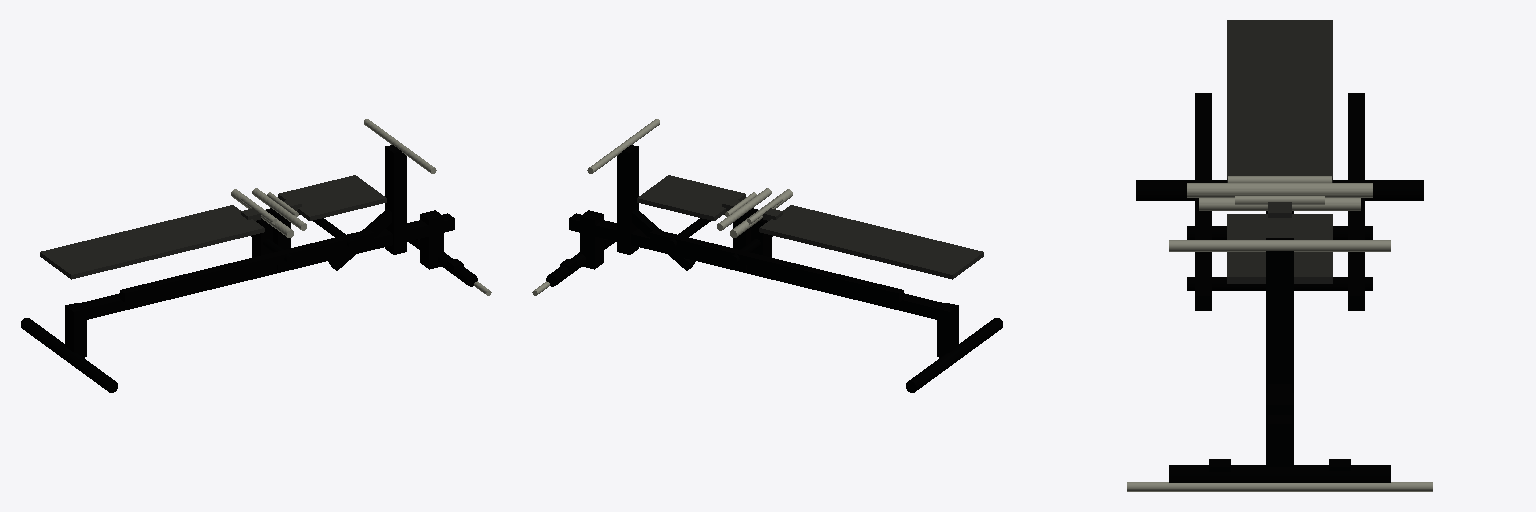
The robot description file, URDF, robot "adjustable_decline_bench":
<robot name="adjustable_decline_bench">
  <link name="frame">
    <visual name="center_spine">
      <origin xyz="-0.05 0 0.245" rpy="0 0 0" />
      <geometry>
        <box size="1.78 0.06 0.05" />
        </geometry>
      <material name="satin_black_steel">
        <color rgba="0.02 0.022 0.022 1" />
        </material>
      </visual>
    <visual name="side_rail_0">
      <origin xyz="-0.22 0.185 0.37" rpy="0 0 0" />
      <geometry>
        <box size="1.16 0.04 0.04" />
        </geometry>
      <material name="satin_black_steel">
        <color rgba="0.02 0.022 0.022 1" />
        </material>
      </visual>
    <visual name="side_rail_1">
      <origin xyz="-0.22 -0.185 0.37" rpy="0 0 0" />
      <geometry>
        <box size="1.16 0.04 0.04" />
        </geometry>
      <material name="satin_black_steel">
        <color rgba="0.02 0.022 0.022 1" />
        </material>
      </visual>
    <visual name="rear_floor_bar">
      <origin xyz="-0.94 0 0.065" rpy="1.5708 0 0" />
      <geometry>
        <cylinder radius="0.026" length="0.7" />
        </geometry>
      <material name="satin_black_steel">
        <color rgba="0.02 0.022 0.022 1" />
        </material>
      </visual>
    <visual name="rear_support">
      <origin xyz="-0.91 0 0.165" rpy="0 0 0" />
      <geometry>
        <box size="0.06 0.07 0.215" />
        </geometry>
      <material name="satin_black_steel">
        <color rgba="0.02 0.022 0.022 1" />
        </material>
      </visual>
    <visual name="front_crossmember">
      <origin xyz="0.78 0 0.105" rpy="1.5708 0 0" />
      <geometry>
        <cylinder radius="0.026" length="0.54" />
        </geometry>
      <material name="satin_black_steel">
        <color rgba="0.02 0.022 0.022 1" />
        </material>
      </visual>
    <visual name="front_support">
      <origin xyz="0.75 0 0.185" rpy="0 0 0" />
      <geometry>
        <box size="0.07 0.07 0.22" />
        </geometry>
      <material name="satin_black_steel">
        <color rgba="0.02 0.022 0.022 1" />
        </material>
      </visual>
    <visual name="wheel_axle">
      <origin xyz="0.8 0 0.085" rpy="1.5708 0 0" />
      <geometry>
        <cylinder radius="0.012" length="0.74" />
        </geometry>
      <material name="brushed_pin_metal">
        <color rgba="0.55 0.55 0.5 1" />
        </material>
      </visual>
    <visual name="back_hinge_stand">
      <origin xyz="-0.04 0 0.352" rpy="0 0 0" />
      <geometry>
        <box size="0.06 0.07 0.23" />
        </geometry>
      <material name="satin_black_steel">
        <color rgba="0.02 0.022 0.022 1" />
        </material>
      </visual>
    <visual name="back_top_crossbar">
      <origin xyz="-0.04 0 0.37" rpy="1.5708 0 0" />
      <geometry>
        <cylinder radius="0.018" length="0.45" />
        </geometry>
      <material name="satin_black_steel">
        <color rgba="0.02 0.022 0.022 1" />
        </material>
      </visual>
    <visual name="back_hinge_pin">
      <origin xyz="-0.04 0 0.485" rpy="1.5708 0 0" />
      <geometry>
        <cylinder radius="0.018" length="0.45" />
        </geometry>
      <material name="brushed_pin_metal">
        <color rgba="0.55 0.55 0.5 1" />
        </material>
      </visual>
    <visual name="seat_hinge_stand">
      <origin xyz="0.04 0 0.352" rpy="0 0 0" />
      <geometry>
        <box size="0.06 0.07 0.23" />
        </geometry>
      <material name="satin_black_steel">
        <color rgba="0.02 0.022 0.022 1" />
        </material>
      </visual>
    <visual name="seat_top_crossbar">
      <origin xyz="0.25 0 0.37" rpy="1.5708 0 0" />
      <geometry>
        <cylinder radius="0.018" length="0.45" />
        </geometry>
      <material name="satin_black_steel">
        <color rgba="0.02 0.022 0.022 1" />
        </material>
      </visual>
    <visual name="seat_hinge_pin">
      <origin xyz="0.04 0 0.485" rpy="1.5708 0 0" />
      <geometry>
        <cylinder radius="0.016" length="0.39" />
        </geometry>
      <material name="brushed_pin_metal">
        <color rgba="0.55 0.55 0.5 1" />
        </material>
      </visual>
    <visual name="seat_pin_saddle">
      <origin xyz="0.04 0 0.467" rpy="0 0 0" />
      <geometry>
        <box size="0.052 0.058 0.018" />
        </geometry>
      <material name="satin_black_steel">
        <color rgba="0.02 0.022 0.022 1" />
        </material>
      </visual>
    <visual name="front_upright">
      <origin xyz="0.58 0 0.405" rpy="0 0 0" />
      <geometry>
        <box size="0.06 0.07 0.455" />
        </geometry>
      <material name="satin_black_steel">
        <color rgba="0.02 0.022 0.022 1" />
        </material>
      </visual>
    <visual name="roller_axle">
      <origin xyz="0.6 0 0.635" rpy="1.5708 0 0" />
      <geometry>
        <cylinder radius="0.014" length="0.54" />
        </geometry>
      <material name="brushed_pin_metal">
        <color rgba="0.55 0.55 0.5 1" />
        </material>
      </visual>
    <visual name="front_brace">
      <origin xyz="0.43 0 0.265" rpy="0 -0.55 0" />
      <geometry>
        <box size="0.34 0.04 0.04" />
        </geometry>
      <material name="satin_black_steel">
        <color rgba="0.02 0.022 0.022 1" />
        </material>
      </visual>
    <visual name="carry_handle">
      <geometry>
        <mesh filename="assets/meshes/front_carry_handle.obj" />
        </geometry>
      <material name="satin_black_steel">
        <color rgba="0.02 0.022 0.022 1" />
        </material>
      </visual>
    <visual name="handle_mount_0">
      <origin xyz="0.775 -0.145 0.118" rpy="0 0 0" />
      <geometry>
        <box size="0.045 0.055 0.038" />
        </geometry>
      <material name="satin_black_steel">
        <color rgba="0.02 0.022 0.022 1" />
        </material>
      </visual>
    <visual name="handle_mount_1">
      <origin xyz="0.775 0.145 0.118" rpy="0 0 0" />
      <geometry>
        <box size="0.045 0.055 0.038" />
        </geometry>
      <material name="satin_black_steel">
        <color rgba="0.02 0.022 0.022 1" />
        </material>
      </visual>
    </link>
  <link name="back_pad">
    <visual name="back_cushion">
      <geometry>
        <mesh filename="assets/meshes/back_cushion.obj" />
        </geometry>
      <material name="black_vinyl_pad">
        <color rgba="0.015 0.014 0.013 1" />
        </material>
      </visual>
    <visual name="back_plate">
      <origin xyz="-0.515 0 -0.006" rpy="0 0 0" />
      <geometry>
        <box size="0.9 0.255 0.02" />
        </geometry>
      <material name="dark_grey_plastic">
        <color rgba="0.18 0.18 0.17 1" />
        </material>
      </visual>
    <visual name="back_hinge_sleeve">
      <origin xyz="-0.015 0 0.018" rpy="1.5708 0 0" />
      <geometry>
        <cylinder radius="0.012" length="0.25" />
        </geometry>
      <material name="brushed_pin_metal">
        <color rgba="0.55 0.55 0.5 1" />
        </material>
      </visual>
    <visual name="back_hinge_tab">
      <origin xyz="-0.055 0 0.006" rpy="0 0 0" />
      <geometry>
        <box size="0.06 0.06 0.026" />
        </geometry>
      <material name="dark_grey_plastic">
        <color rgba="0.18 0.18 0.17 1" />
        </material>
      </visual>
    </link>
  <link name="seat">
    <visual name="seat_cushion">
      <geometry>
        <mesh filename="assets/meshes/seat_cushion.obj" />
        </geometry>
      <material name="black_vinyl_pad">
        <color rgba="0.015 0.014 0.013 1" />
        </material>
      </visual>
    <visual name="seat_plate">
      <origin xyz="0.245 0 -0.006" rpy="0 0 0" />
      <geometry>
        <box size="0.36 0.255 0.02" />
        </geometry>
      <material name="dark_grey_plastic">
        <color rgba="0.18 0.18 0.17 1" />
        </material>
      </visual>
    <visual name="seat_hinge_sleeve">
      <origin xyz="0.015 0 0.018" rpy="1.5708 0 0" />
      <geometry>
        <cylinder radius="0.011" length="0.22" />
        </geometry>
      <material name="brushed_pin_metal">
        <color rgba="0.55 0.55 0.5 1" />
        </material>
      </visual>
    <visual name="seat_hinge_tab">
      <origin xyz="0.05 0 0.006" rpy="0 0 0" />
      <geometry>
        <box size="0.076 0.06 0.026" />
        </geometry>
      <material name="dark_grey_plastic">
        <color rgba="0.18 0.18 0.17 1" />
        </material>
      </visual>
    </link>
  <link name="roller_0">
    <visual name="foam">
      <origin xyz="0 0 0" rpy="0 0 1.5708" />
      <geometry>
        <mesh filename="assets/meshes/foam_roller_0.obj" />
        </geometry>
      <material name="dense_black_foam">
        <color rgba="0.025 0.024 0.022 1" />
        </material>
      </visual>
    </link>
  <link name="roller_1">
    <visual name="foam">
      <origin xyz="0 0 0" rpy="0 0 1.5708" />
      <geometry>
        <mesh filename="assets/meshes/foam_roller_1.obj" />
        </geometry>
      <material name="dense_black_foam">
        <color rgba="0.025 0.024 0.022 1" />
        </material>
      </visual>
    </link>
  <link name="wheel_0">
    <visual name="tire">
      <origin xyz="0 0 0" rpy="0 0 1.5708" />
      <geometry>
        <mesh filename="assets/meshes/transport_tire_0.obj" />
        </geometry>
      <material name="matte_rubber">
        <color rgba="0.01 0.01 0.009 1" />
        </material>
      </visual>
    <visual name="rim">
      <origin xyz="0 0 0" rpy="0 0 1.5708" />
      <geometry>
        <mesh filename="assets/meshes/transport_rim_0.obj" />
        </geometry>
      <material name="dark_grey_plastic">
        <color rgba="0.18 0.18 0.17 1" />
        </material>
      </visual>
    </link>
  <link name="wheel_1">
    <visual name="tire">
      <origin xyz="0 0 0" rpy="0 0 1.5708" />
      <geometry>
        <mesh filename="assets/meshes/transport_tire_1.obj" />
        </geometry>
      <material name="matte_rubber">
        <color rgba="0.01 0.01 0.009 1" />
        </material>
      </visual>
    <visual name="rim">
      <origin xyz="0 0 0" rpy="0 0 1.5708" />
      <geometry>
        <mesh filename="assets/meshes/transport_rim_1.obj" />
        </geometry>
      <material name="dark_grey_plastic">
        <color rgba="0.18 0.18 0.17 1" />
        </material>
      </visual>
    </link>
  <joint name="frame_to_roller_0" type="continuous">
    <origin xyz="0.6 -0.155 0.635" rpy="0 0 0" />
    <parent link="frame" />
    <child link="roller_0" />
    <axis xyz="0 1 0" />
    <limit effort="4" velocity="8" />
    </joint>
  <joint name="frame_to_roller_1" type="continuous">
    <origin xyz="0.6 0.155 0.635" rpy="0 0 0" />
    <parent link="frame" />
    <child link="roller_1" />
    <axis xyz="0 1 0" />
    <limit effort="4" velocity="8" />
    </joint>
  <joint name="frame_to_wheel_0" type="continuous">
    <origin xyz="0.8 -0.33 0.085" rpy="0 0 0" />
    <parent link="frame" />
    <child link="wheel_0" />
    <axis xyz="0 1 0" />
    <limit effort="5" velocity="12" />
    </joint>
  <joint name="frame_to_wheel_1" type="continuous">
    <origin xyz="0.8 0.33 0.085" rpy="0 0 0" />
    <parent link="frame" />
    <child link="wheel_1" />
    <axis xyz="0 1 0" />
    <limit effort="5" velocity="12" />
    </joint>
  <joint name="frame_to_back_pad" type="revolute">
    <origin xyz="-0.04 0 0.485" rpy="0 0 0" />
    <parent link="frame" />
    <child link="back_pad" />
    <axis xyz="0 1 0" />
    <limit effort="90" velocity="1.2" lower="-0.2" upper="0.85" />
    </joint>
  <joint name="frame_to_seat" type="revolute">
    <origin xyz="0.04 0 0.485" rpy="0 0 0" />
    <parent link="frame" />
    <child link="seat" />
    <axis xyz="0 -1 0" />
    <limit effort="60" velocity="1.2" lower="0" upper="0.55" />
    </joint>
  </robot>

--- What the picture shows (computed from the rendered views, not written in the file) ---
The picture shows the robot from 3 angles, left to right: view 1: azimuth 30°, elevation 25°; view 2: azimuth 150°, elevation 25°; view 3: azimuth 270°, elevation 25°; orthographic projection.
Model adjustable_decline_bench with 7 links and 6 joints (2 revolute, 4 continuous), rooted at frame, posed every joint at zero.
Visible links, largest first — view 1: frame, back_pad, seat; view 2: frame, back_pad, seat; view 3: frame, back_pad, seat.
Link boxes in pixels (box(x1,y1,x2,y2)): frame: box(21, 119, 491, 392); back_pad: box(40, 196, 276, 279); seat: box(267, 175, 386, 220); frame: box(532, 119, 1002, 392); back_pad: box(747, 196, 983, 279); seat: box(637, 175, 756, 220); frame: box(1127, 93, 1432, 491); back_pad: box(1227, 20, 1332, 182); seat: box(1227, 196, 1332, 283).
Size in the robot's own frame: 1.84 by 0.74 by 0.61 metres.
0 mesh visuals loaded from 9 distinct referenced files (none loaded); not drawn: 9 (reference not matched to a file when rendering).
